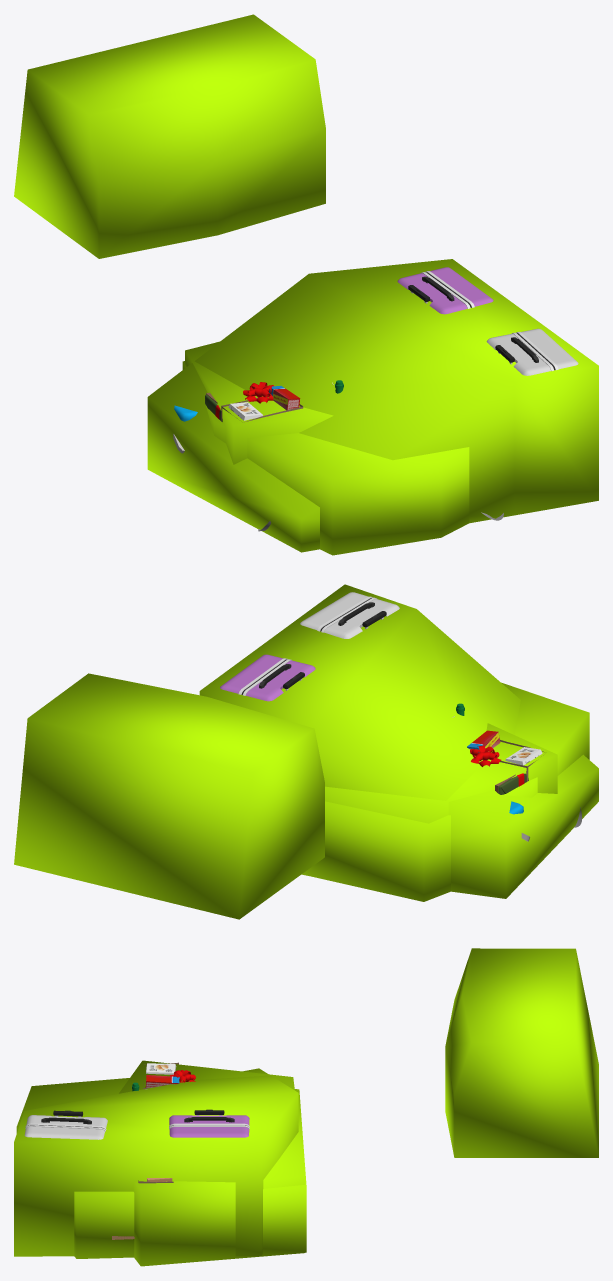
File: VW_Taos_2021_Trunkloading.glb
The picture shows the model from 3 angles, top to bottom: view 1: azimuth 30°, elevation 25°; view 2: azimuth 150°, elevation 25°; view 3: azimuth 270°, elevation 25°; orthographic projection. The views are drawn at different scales.
Visible parts, largest first — view 1: Trunkload Travelling Mesh Trigger, Trunkload Mesh Trigger, Trunkload Boxes Mesh Trigger, Trunkload Shopping Mesh Trigger, Suitcase 2#Material Atlas, Suitcase 1#Material Atlas, Grocery Bag 1#Grocery Bag; view 2: Trunkload Mesh Trigger, Trunkload Travelling Mesh Trigger, Trunkload Boxes Mesh Trigger, Trunkload Shopping Mesh Trigger, Suitcase 2#Material Atlas, Suitcase 1#Material Atlas, Grocery Bag 1#Grocery Bag, Christmas Box LWH 40x40x30 2; view 3: Trunkload Mesh Trigger, Trunkload Travelling Mesh Trigger, Trunkload Shopping Mesh Trigger, Trunkload Boxes Mesh Trigger, Suitcase 1#Material Atlas, Suitcase 2#Material Atlas, Grocery Bag 1#Grocery Bag.
Boxes of the visible parts, bbox=[...] form: Trunkload Travelling Mesh Trigger: bbox=[147, 259, 598, 552]; Trunkload Mesh Trigger: bbox=[14, 14, 325, 258]; Trunkload Boxes Mesh Trigger: bbox=[182, 361, 469, 555]; Trunkload Shopping Mesh Trigger: bbox=[185, 341, 333, 464]; Suitcase 2#Material Atlas: bbox=[486, 328, 578, 375]; Suitcase 1#Material Atlas: bbox=[397, 267, 493, 314]; Grocery Bag 1#Grocery Bag: bbox=[221, 386, 303, 422]; Trunkload Mesh Trigger: bbox=[14, 673, 324, 919]; Trunkload Travelling Mesh Trigger: bbox=[199, 584, 598, 898]; Trunkload Boxes Mesh Trigger: bbox=[302, 682, 589, 901]; Trunkload Shopping Mesh Trigger: bbox=[301, 723, 557, 875]; Suitcase 2#Material Atlas: bbox=[300, 592, 399, 638]; Suitcase 1#Material Atlas: bbox=[220, 654, 315, 701]; Grocery Bag 1#Grocery Bag: bbox=[467, 730, 544, 781]; Christmas Box LWH 40x40x30 2: bbox=[470, 745, 528, 794]; Trunkload Mesh Trigger: bbox=[445, 948, 598, 1157]; Trunkload Travelling Mesh Trigger: bbox=[14, 1068, 298, 1256]; Trunkload Shopping Mesh Trigger: bbox=[119, 1060, 305, 1266]; Trunkload Boxes Mesh Trigger: bbox=[16, 1078, 306, 1258]; Suitcase 1#Material Atlas: bbox=[169, 1109, 249, 1137]; Suitcase 2#Material Atlas: bbox=[24, 1110, 107, 1139]; Grocery Bag 1#Grocery Bag: bbox=[143, 1062, 179, 1089].
Bounding box in the file's own units: 1.62 × 1.18 × 2.94.
10 materials, 4 textured.
